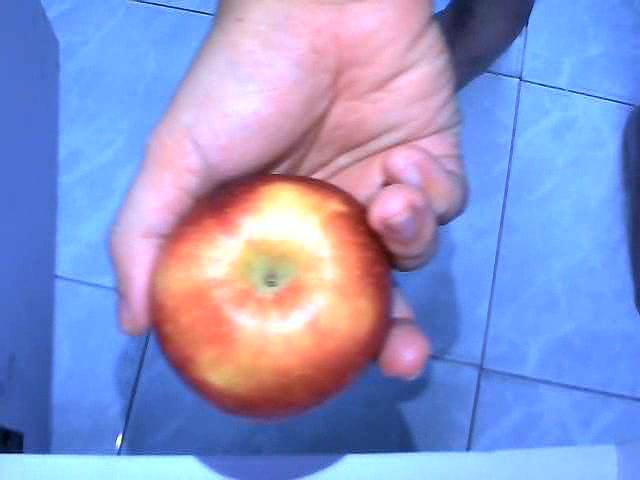apple: (147, 173, 392, 417)
